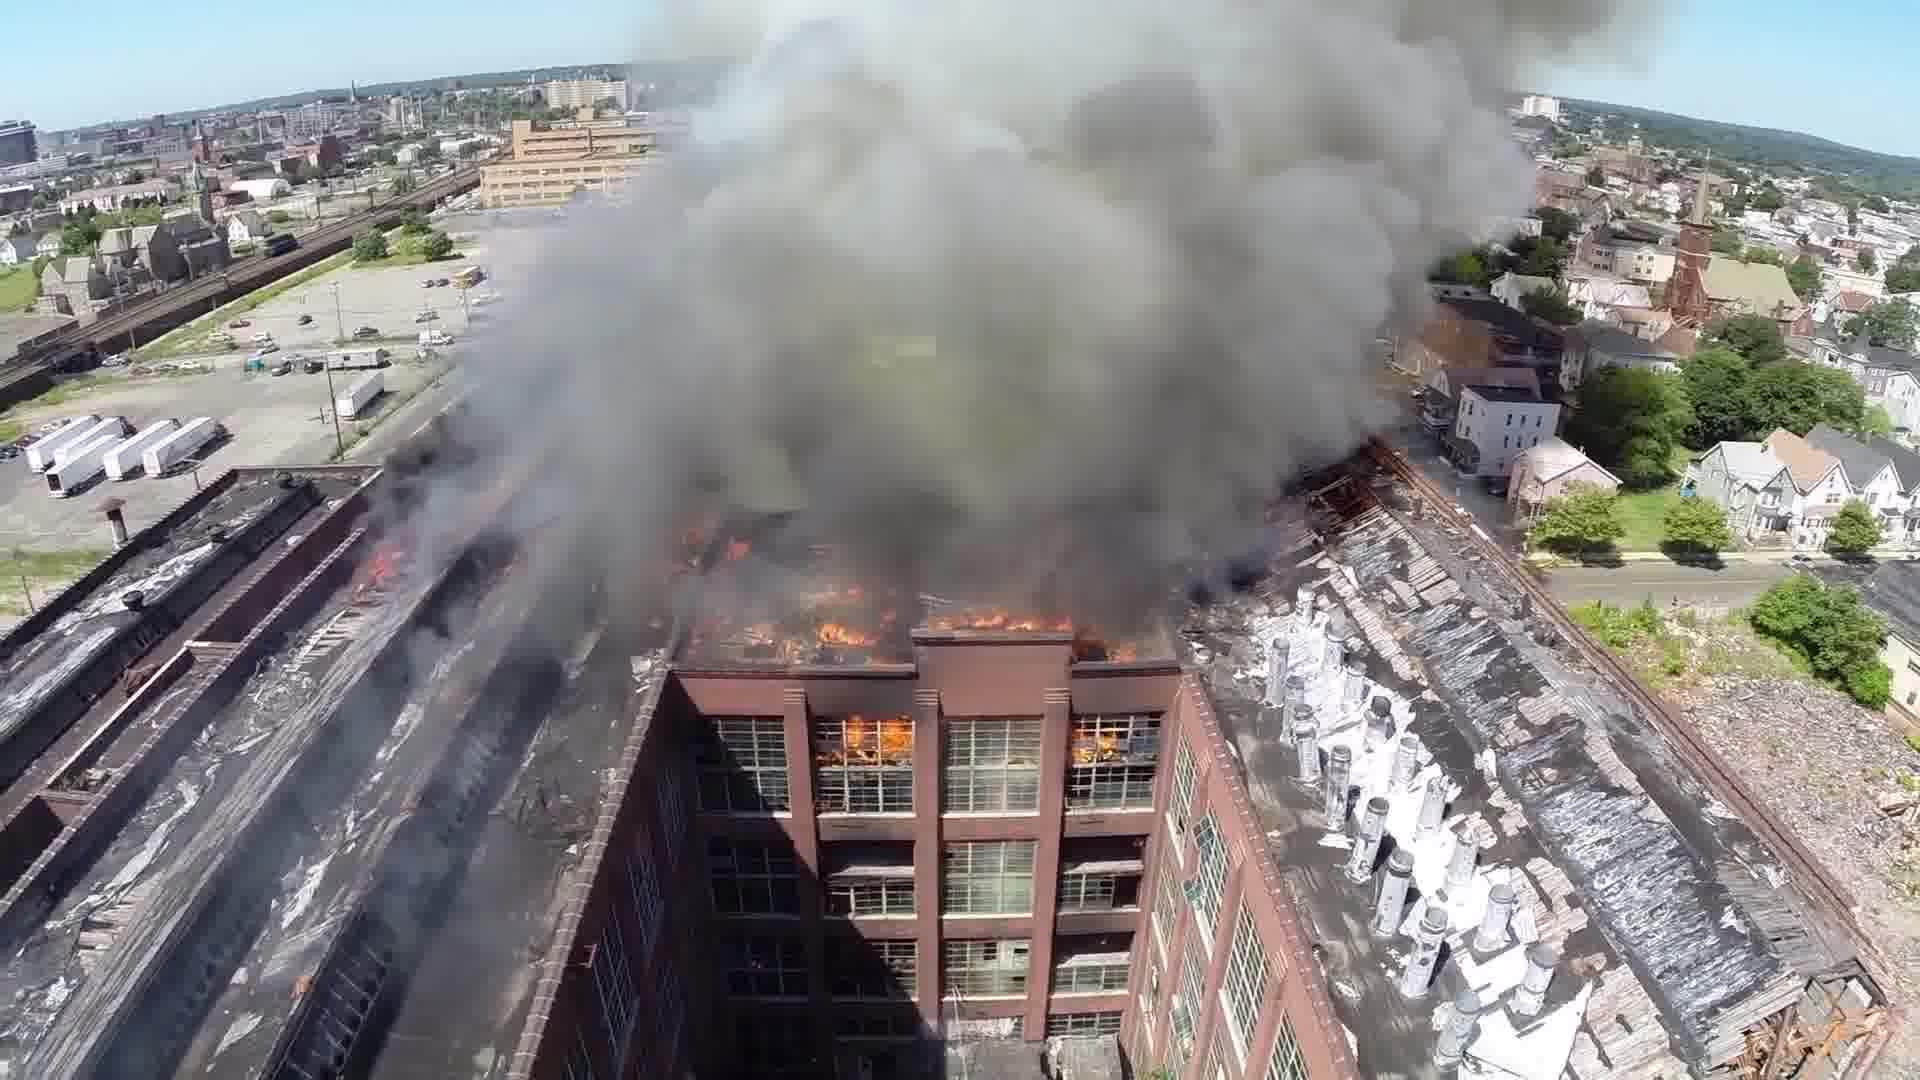smoke: (487, 22, 1422, 585)
